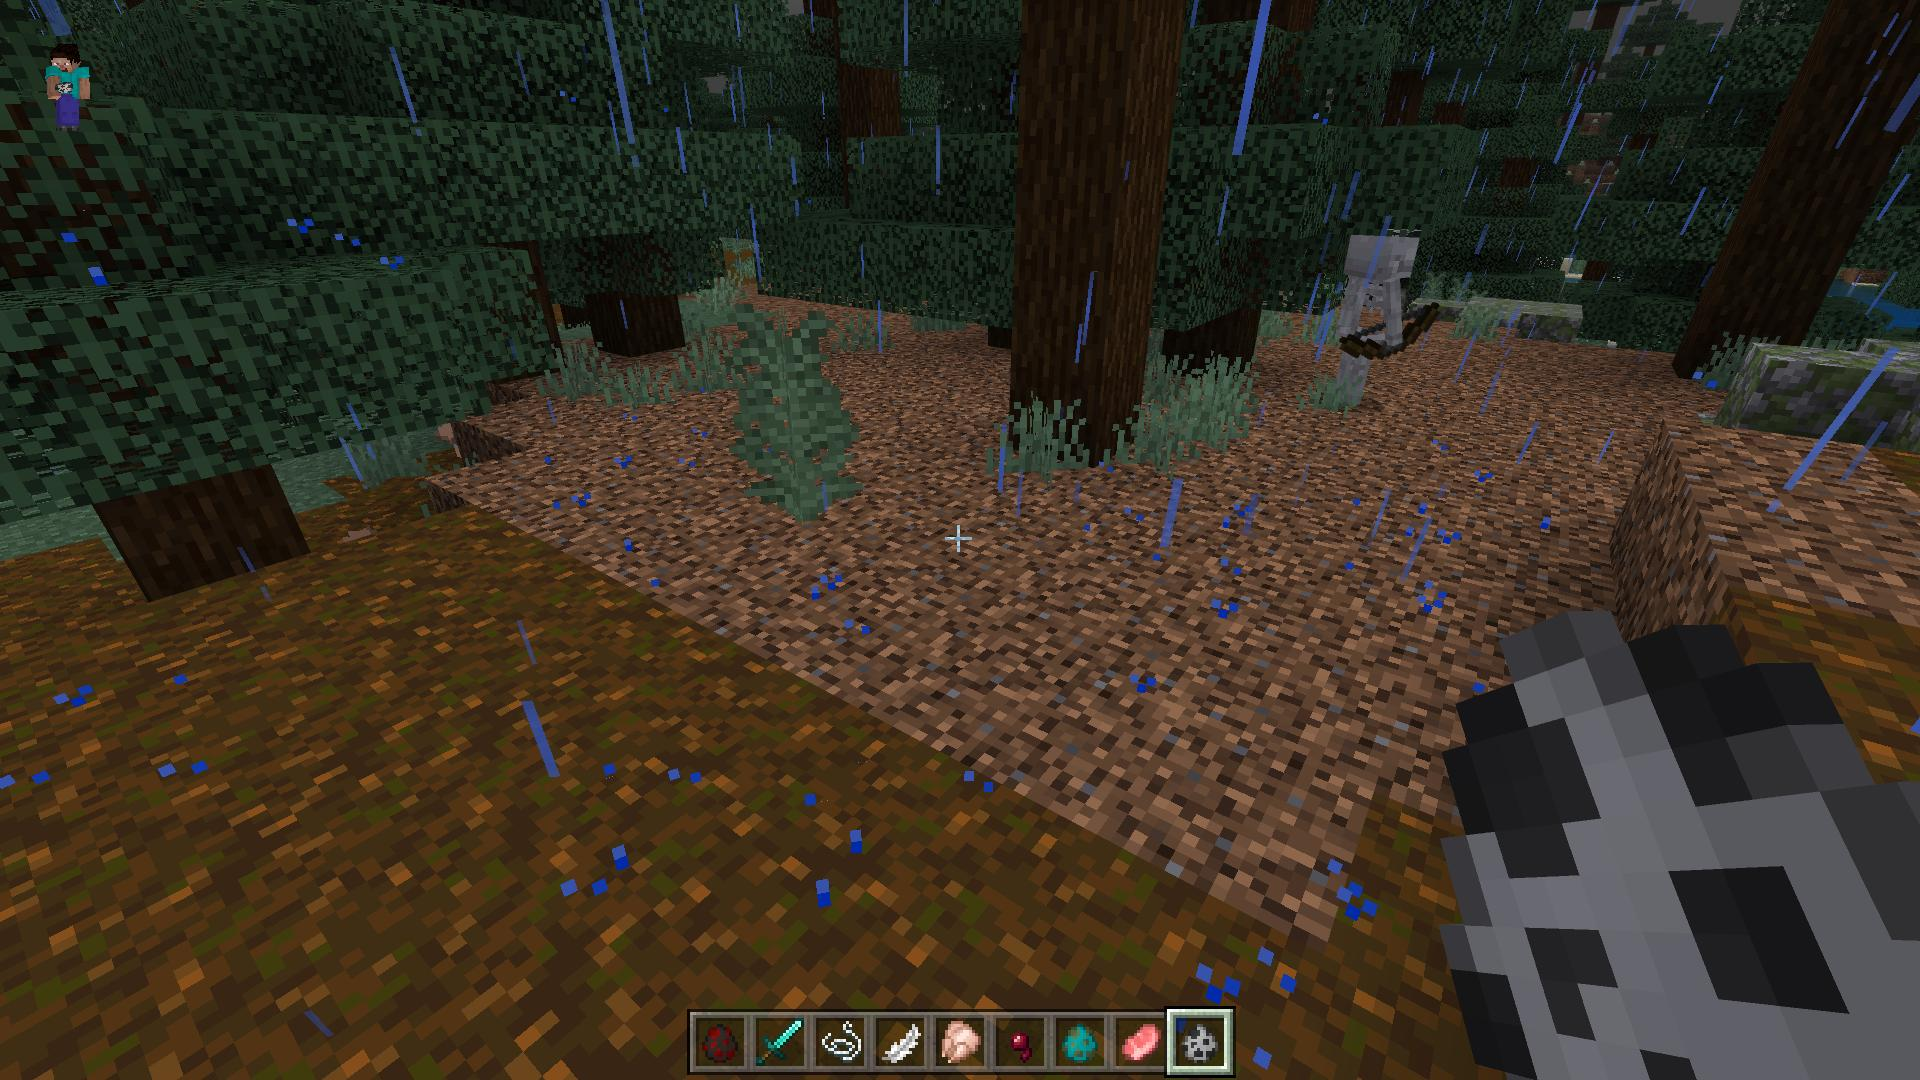skeleton: (1325, 227, 1436, 406)
